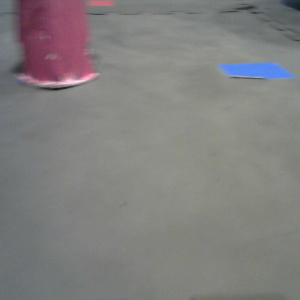middle: (13, 1, 100, 90)
